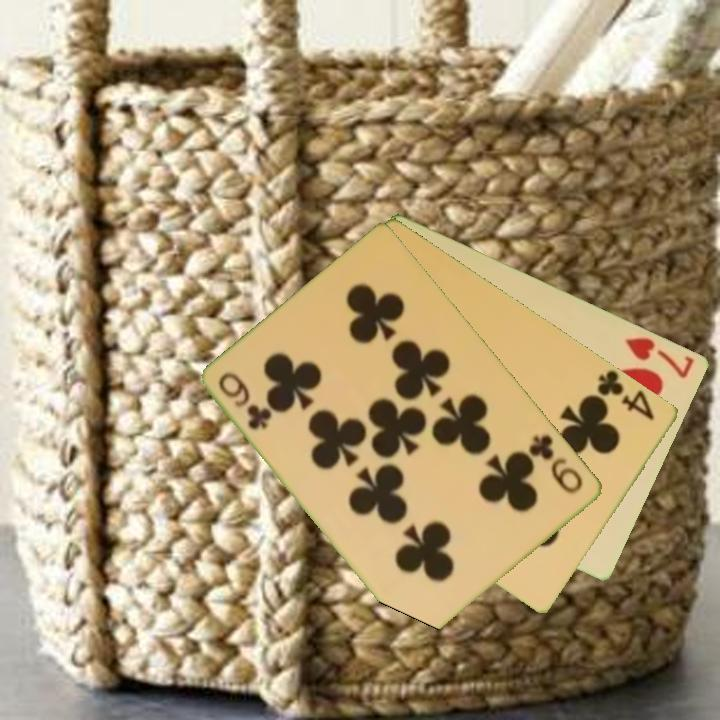4c: (594, 366, 659, 423)
7h: (622, 333, 698, 381)
9c: (525, 430, 587, 497), (215, 368, 275, 433)
